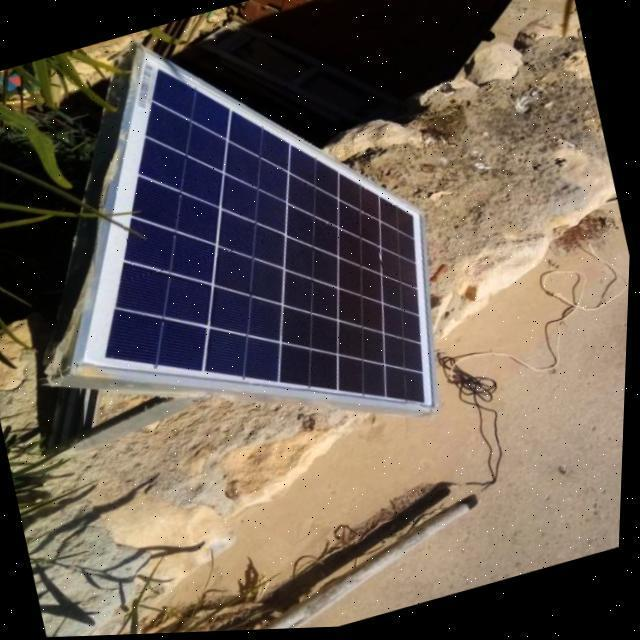Normal Solar Panel: (0, 0, 475, 507)
